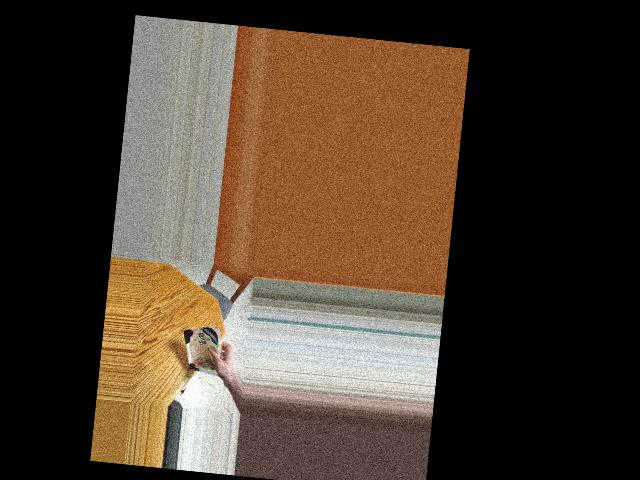cheese: (182, 321, 224, 381)
